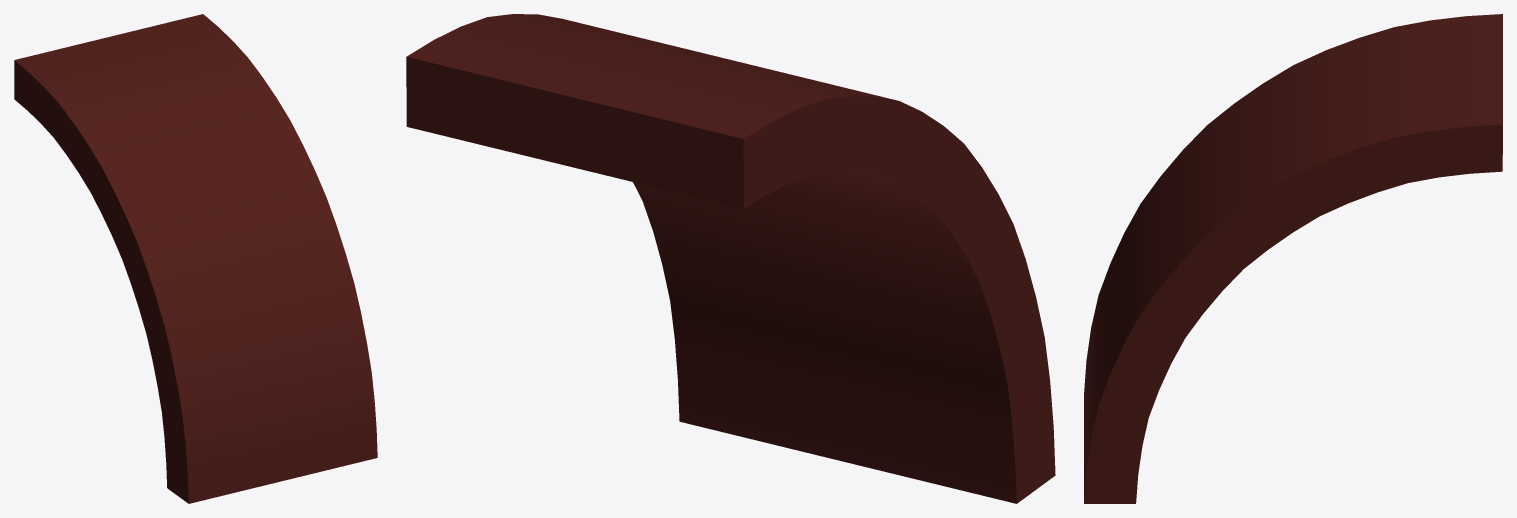
File: vox_road_upbendlong.fbx
3 renders of one model, left to right at view 1: azimuth 30°, elevation 25°; view 2: azimuth 150°, elevation 25°; view 3: azimuth 270°, elevation 25°, orthographic. The views are drawn at different scales.
Visible parts, largest first — view 1: vox_road_upbendlong; view 2: vox_road_upbendlong; view 3: vox_road_upbendlong.
Boxes of the visible parts, x1,y1,x2,y2 form: vox_road_upbendlong: [14, 14, 377, 503]; vox_road_upbendlong: [406, 14, 1055, 503]; vox_road_upbendlong: [1084, 14, 1502, 503].
Bounding box in the file's own units: 64 × 102 × 102.
